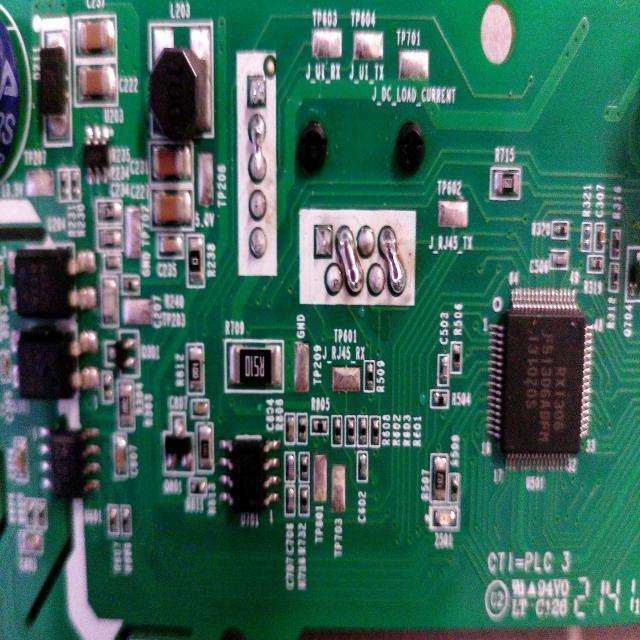Soldering shorted: (377, 222, 409, 298), (336, 220, 364, 296), (247, 111, 268, 186)
